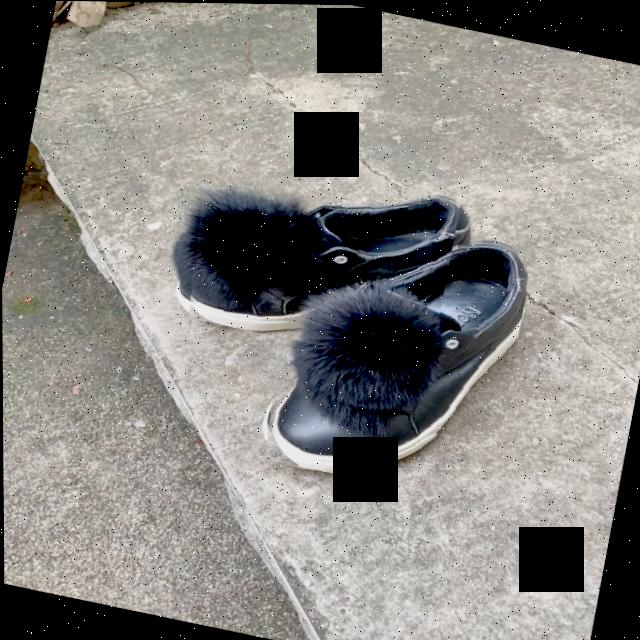shoe: (264, 243, 528, 468), (190, 198, 457, 324)
